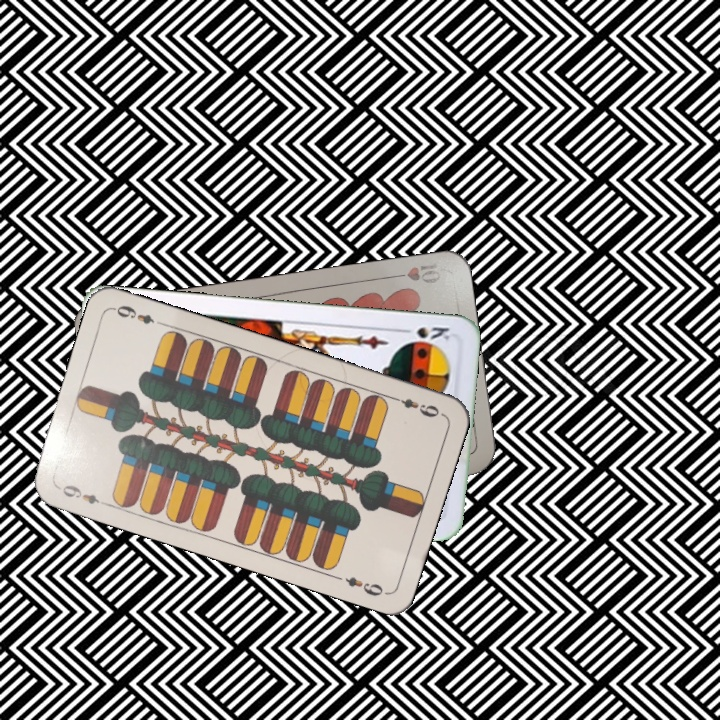E9: (387, 392, 442, 420), (58, 480, 112, 508)
H10: (385, 259, 443, 287)
SK: (395, 322, 454, 343)
